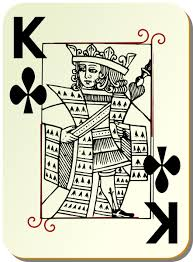king of clubs: (6, 4, 192, 254)
